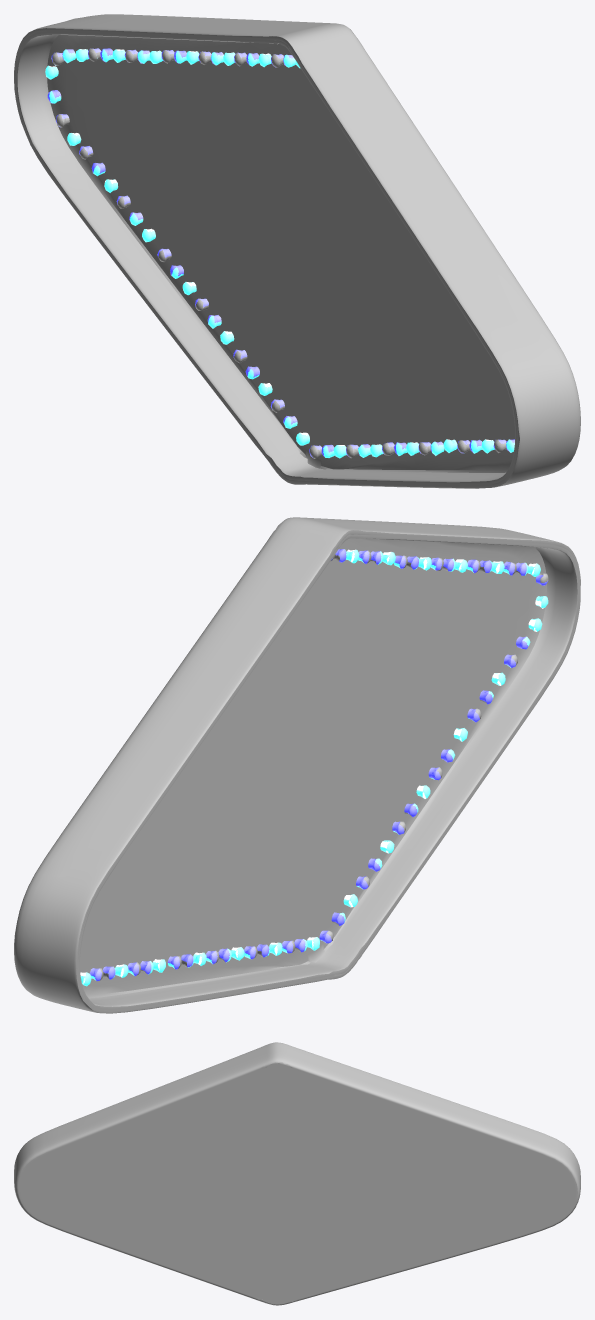
The model's file is SM_SignBoard_01f.fbx.
3 renders of one model, top to bottom at view 1: azimuth 30°, elevation 25°; view 2: azimuth 150°, elevation 25°; view 3: azimuth 270°, elevation 25°, orthographic. The views are drawn at different scales.
Visible parts, largest first — view 1: SM_SignBoard_01f_LOD0; view 2: SM_SignBoard_01f_LOD0; view 3: SM_SignBoard_01f_LOD0.
Part boxes in pixels (<box>): SM_SignBoard_01f_LOD0: <box>14,14,580,488</box>; SM_SignBoard_01f_LOD0: <box>14,517,580,1013</box>; SM_SignBoard_01f_LOD0: <box>14,1042,580,1305</box>.
Size of the model in its own units: 15.53 by 208 by 100.
